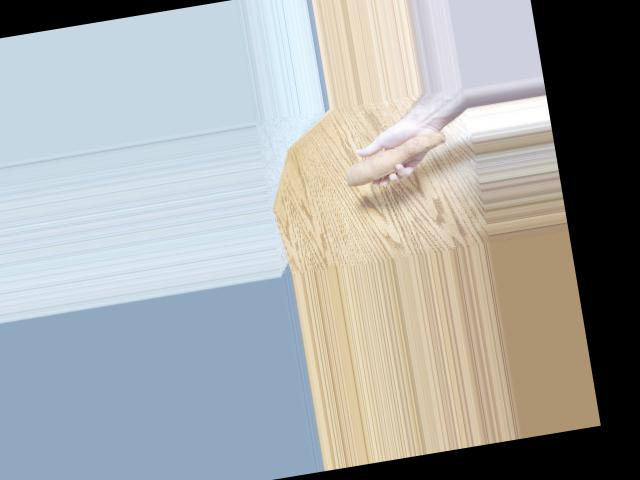sweet_potato: (339, 128, 462, 191)
